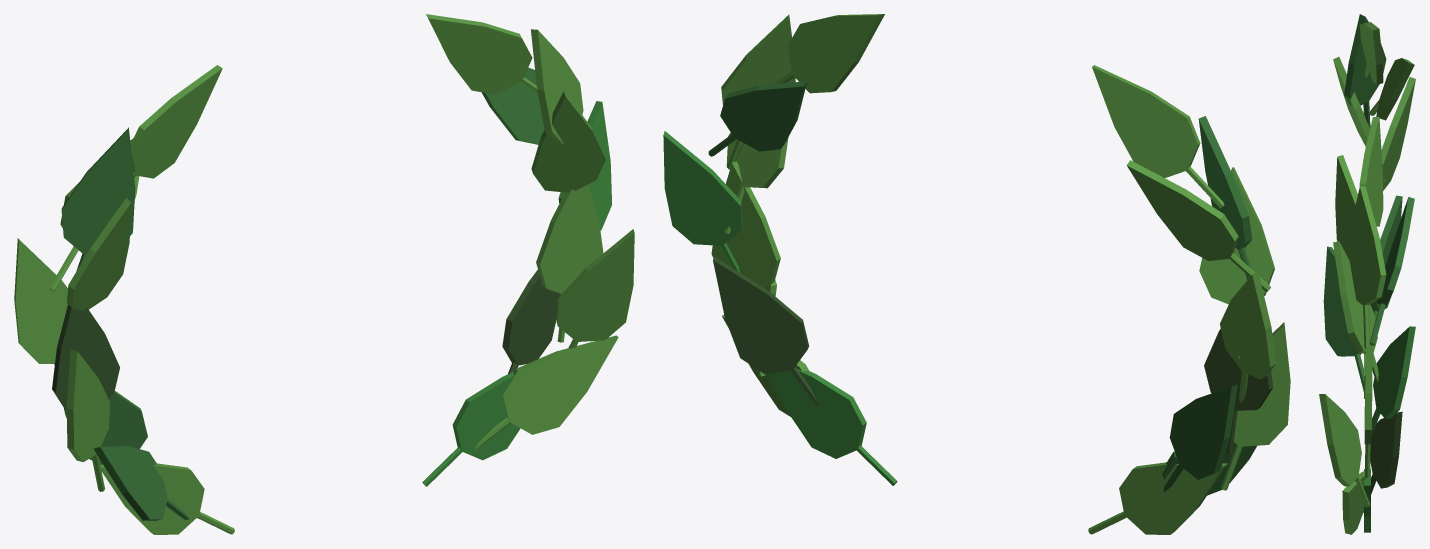
The model's file is laurel-leaves.fbx.
3 views of the same model, side by side, from view 1: azimuth 30°, elevation 25°; view 2: azimuth 150°, elevation 25°; view 3: azimuth 270°, elevation 25° (orthographic). The views are drawn at different scales.
Parts seen in each view (by area): view 1: laurel-leaf012, laurel-leaf018, laurel-leaf011, laurel-leaf008, laurel-leaf014, laurel-leaf007, laurel-leaf019, laurel-leaf003, laurel-leaf01, laurel-leaf010, laurel-leaf02, laurel-leaf006 (+7 smaller); view 2: laurel-leaf003, laurel-leaf013, laurel-leaf015, laurel-leaf010, laurel-leaf011, laurel-leaf009, laurel-leaf, laurel-leaf017, laurel-leaf005, laurel-leaf007, laurel-leaf014, laurel-leaf01 (+6 smaller); view 3: laurel-leaf016, laurel-leaf018, laurel-leaf015, laurel-leaf004, laurel-leaf019, laurel-leaf013, laurel-leaf011, laurel-leaf008, laurel-leaf017, laurel-leaf007, laurel-leaf01, laurel-leaf009 (+6 smaller).
Part boxes in pixels (x1,y1,x2,y2): laurel-leaf012: (474, 335, 618, 449); laurel-leaf018: (556, 229, 634, 348); laurel-leaf011: (426, 14, 537, 94); laurel-leaf008: (61, 127, 135, 298); laurel-leaf014: (536, 184, 603, 342); laurel-leaf007: (14, 238, 67, 363); laurel-leaf019: (531, 91, 605, 192); laurel-leaf003: (130, 65, 222, 178); laurel-leaf01: (66, 349, 110, 491); laurel-leaf010: (422, 372, 520, 486); laurel-leaf02: (67, 198, 131, 310); laurel-leaf006: (52, 305, 119, 409); laurel-leaf003: (1092, 65, 1224, 208); laurel-leaf013: (713, 256, 817, 407); laurel-leaf015: (663, 131, 742, 272); laurel-leaf010: (768, 369, 897, 485); laurel-leaf011: (772, 14, 884, 93); laurel-leaf009: (1126, 160, 1270, 291); laurel-leaf: (1088, 462, 1227, 534); laurel-leaf017: (708, 81, 807, 156); laurel-leaf005: (1164, 384, 1237, 492); laurel-leaf007: (1220, 271, 1276, 403); laurel-leaf014: (711, 161, 780, 287); laurel-leaf01: (1220, 322, 1290, 490); laurel-leaf016: (1346, 186, 1386, 348); laurel-leaf018: (1319, 394, 1370, 507); laurel-leaf015: (1371, 326, 1415, 434); laurel-leaf004: (1323, 246, 1363, 391); laurel-leaf019: (1333, 241, 1378, 384); laurel-leaf013: (1370, 411, 1402, 494); laurel-leaf011: (1359, 116, 1383, 226); laurel-leaf008: (1344, 14, 1386, 125); laurel-leaf017: (1369, 197, 1414, 345); laurel-leaf007: (1381, 77, 1415, 190); laurel-leaf01: (1335, 155, 1357, 253); laurel-leaf009: (1369, 58, 1414, 120).
Size of the model in its own units: 156 by 117 by 25.47.
Materials: 1 (1 with a texture image).
